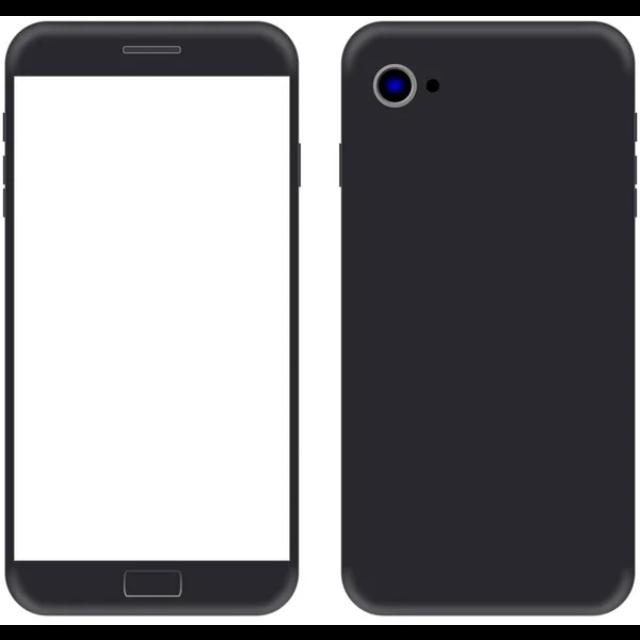Smartphone: (1, 15, 302, 619)
